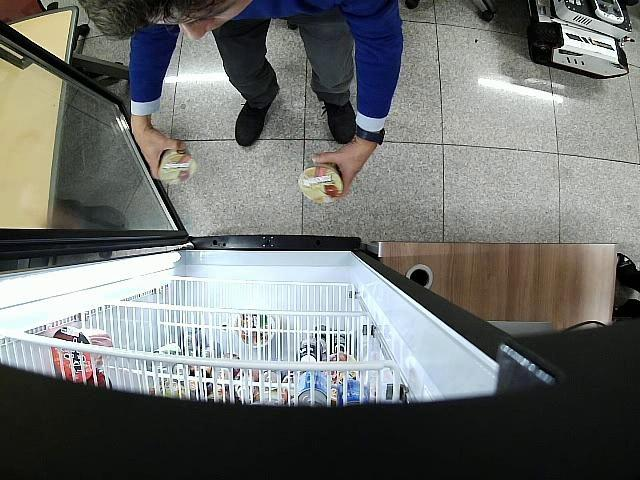04_chapagetti_S: (298, 162, 344, 204), (159, 147, 197, 184)
